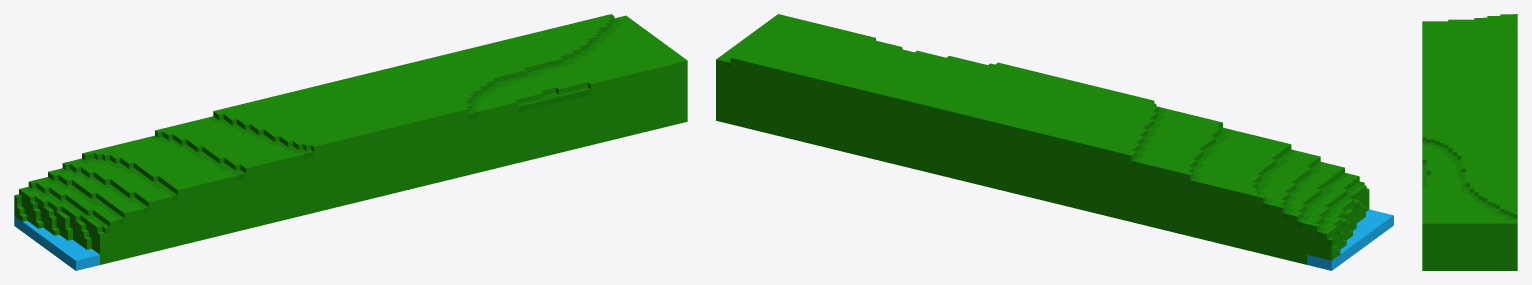
The model's file is castle 3 2-1.obj.
The picture shows the model from 3 angles, left to right: view 1: azimuth 30°, elevation 25°; view 2: azimuth 150°, elevation 25°; view 3: azimuth 270°, elevation 25°; orthographic projection. The views are drawn at different scales.
Bounding box in the file's own units: 12.6 × 1.3 × 2.2.
1 material, 1 textured.
